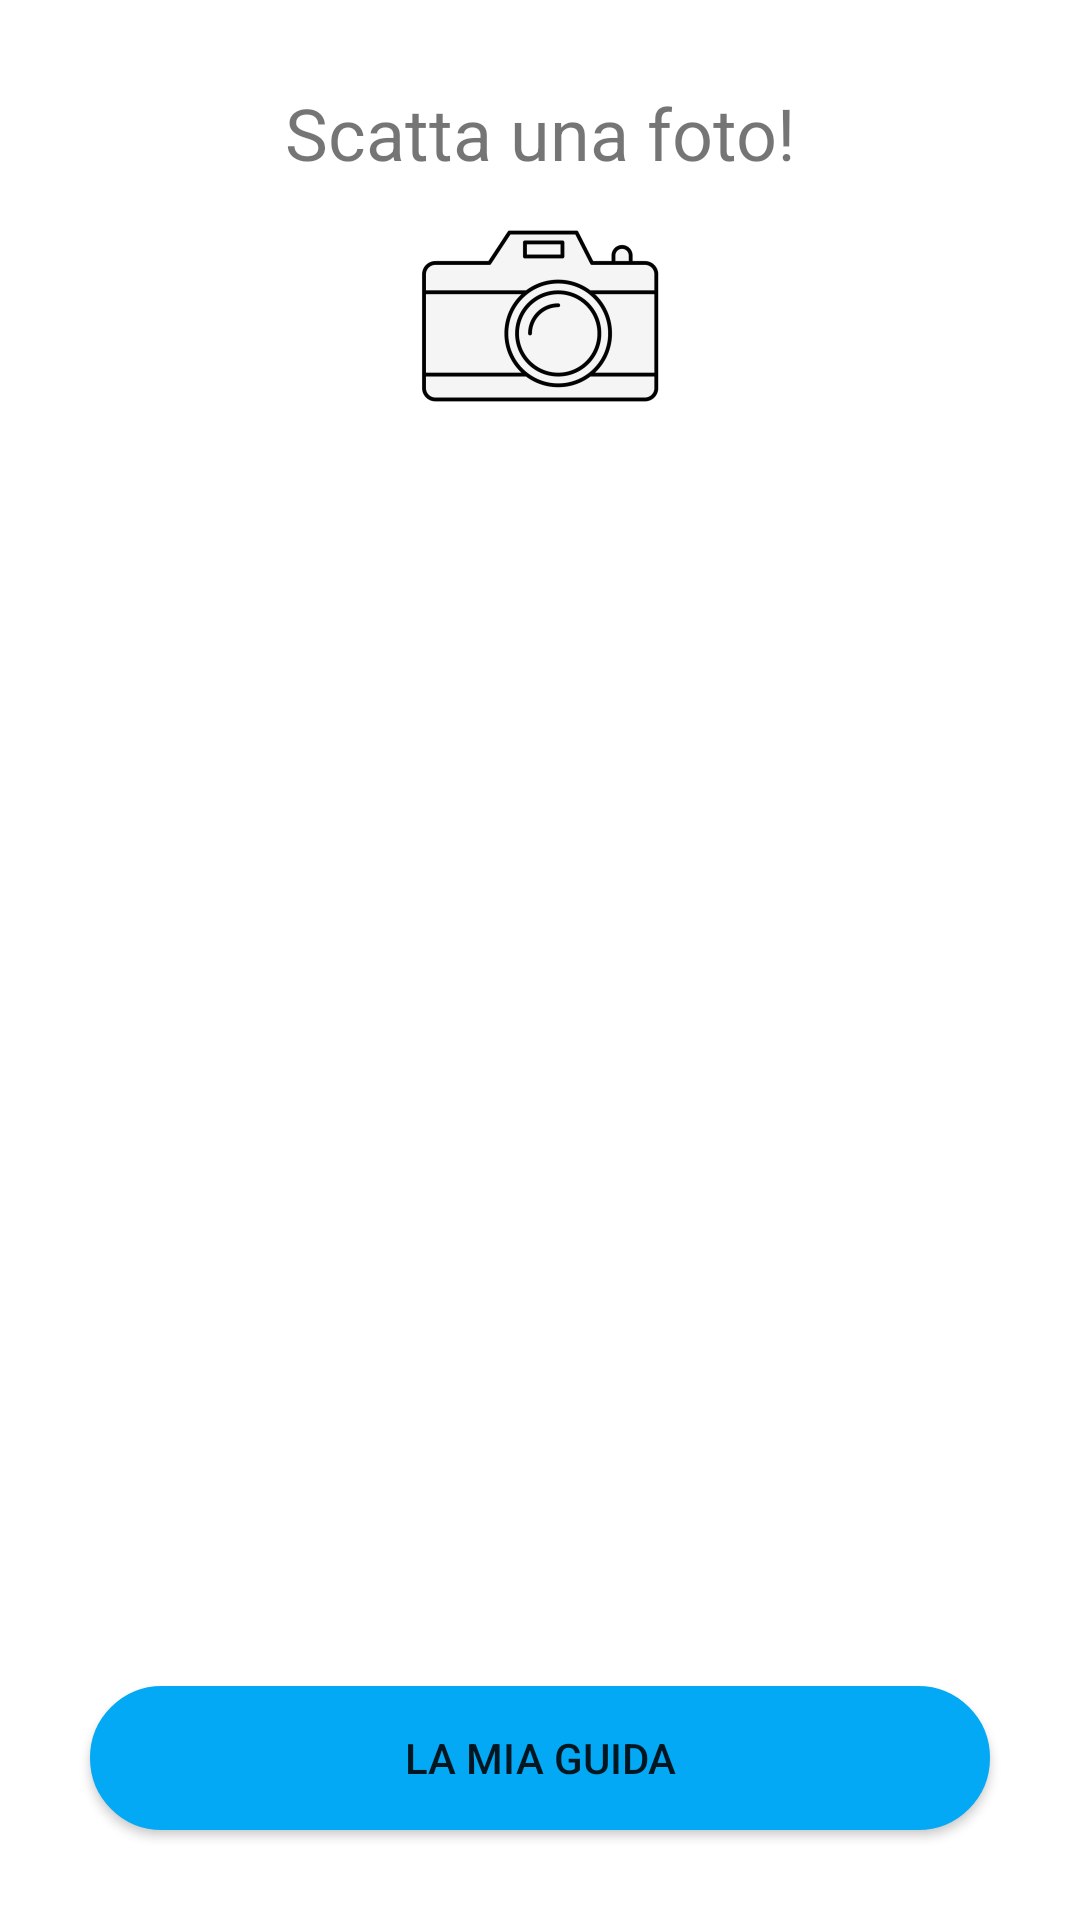

Icon click points for this 1080px×1920px phone screenshot, format (x=x, y=y):
camera: (x=540, y=316)
